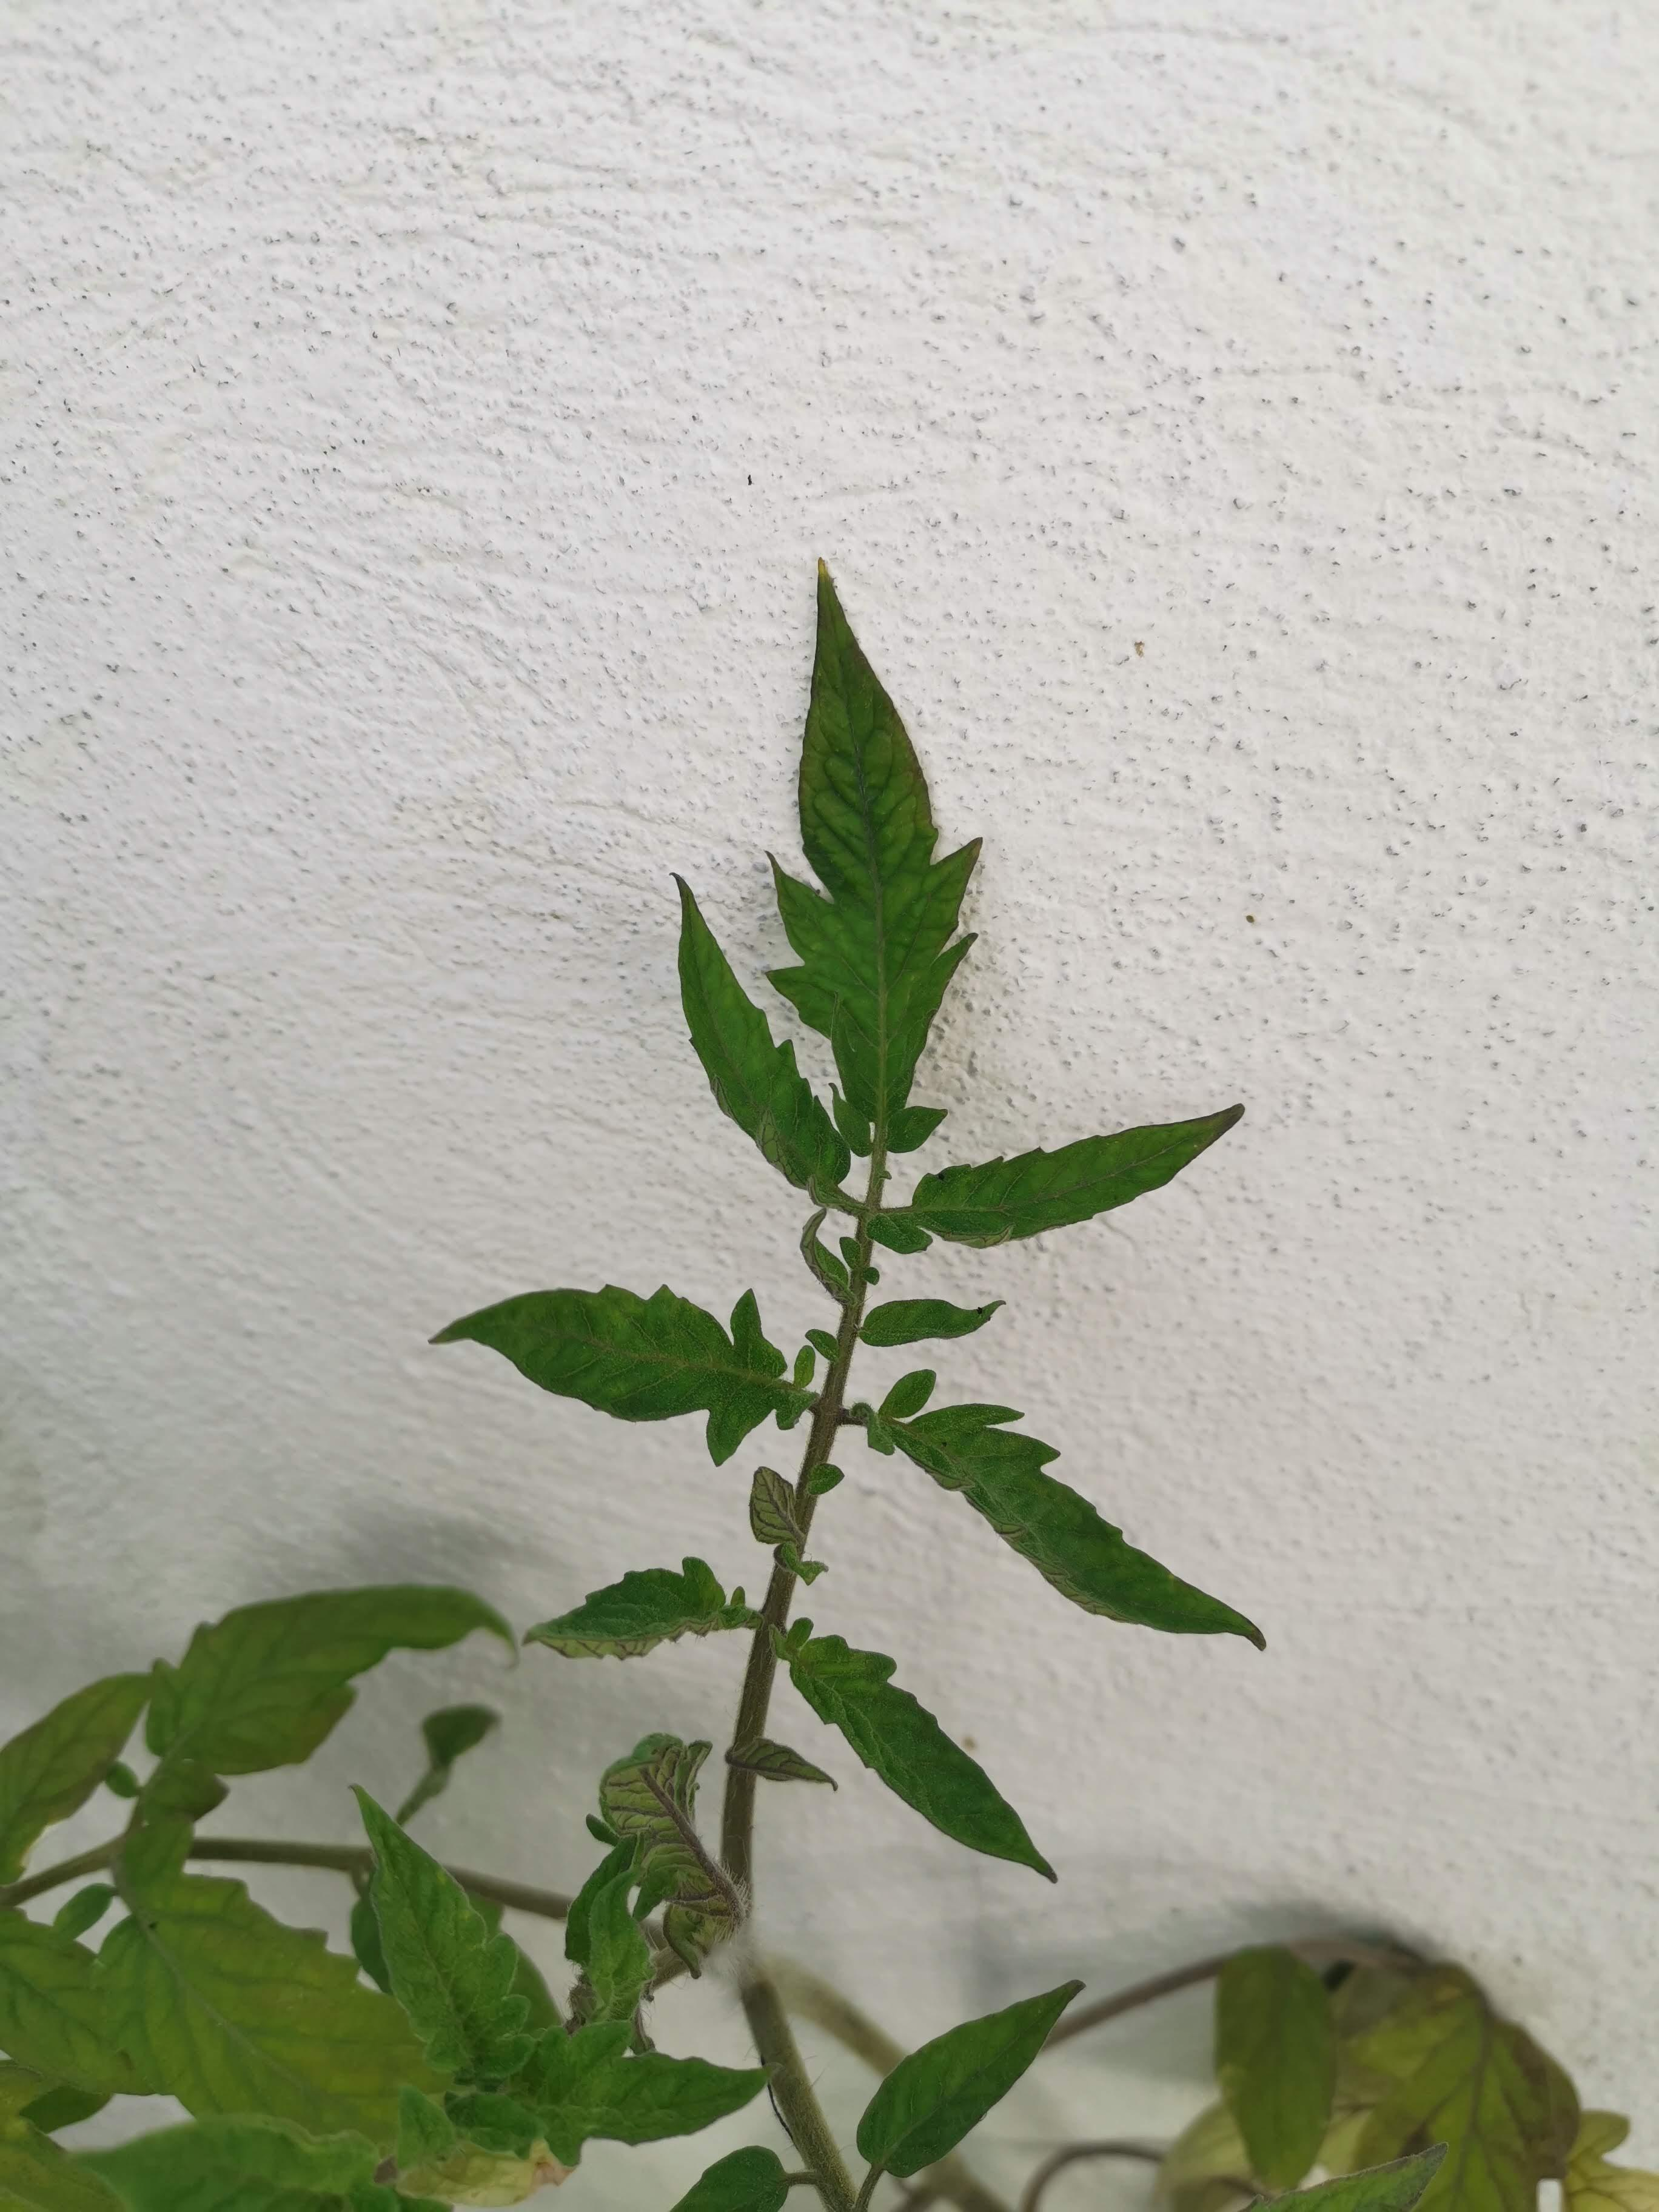Rugose leaf: (763, 556, 981, 1123), (850, 1369, 1263, 1653), (429, 1285, 817, 1468), (673, 874, 864, 1209), (906, 1104, 1248, 1249), (591, 1735, 748, 1994), (523, 1557, 765, 1662), (861, 1299, 1009, 1346), (864, 1212, 934, 1258), (805, 1461, 845, 1496), (622, 2040, 629, 2059)
